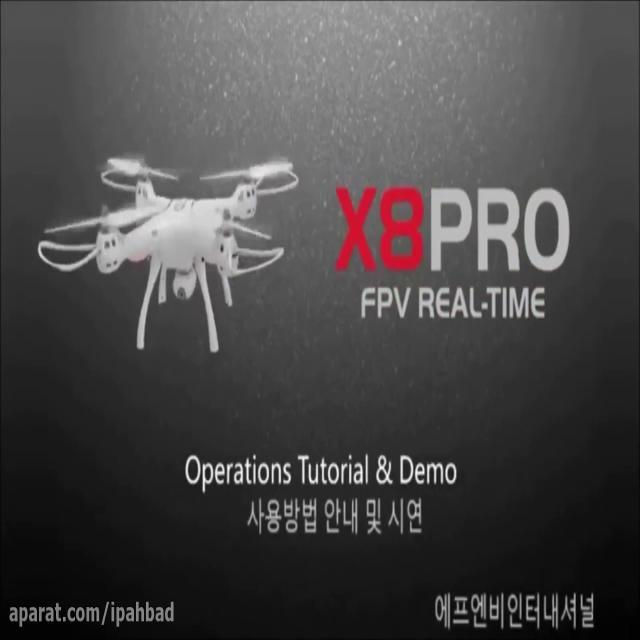drone: (37, 154, 298, 354)
